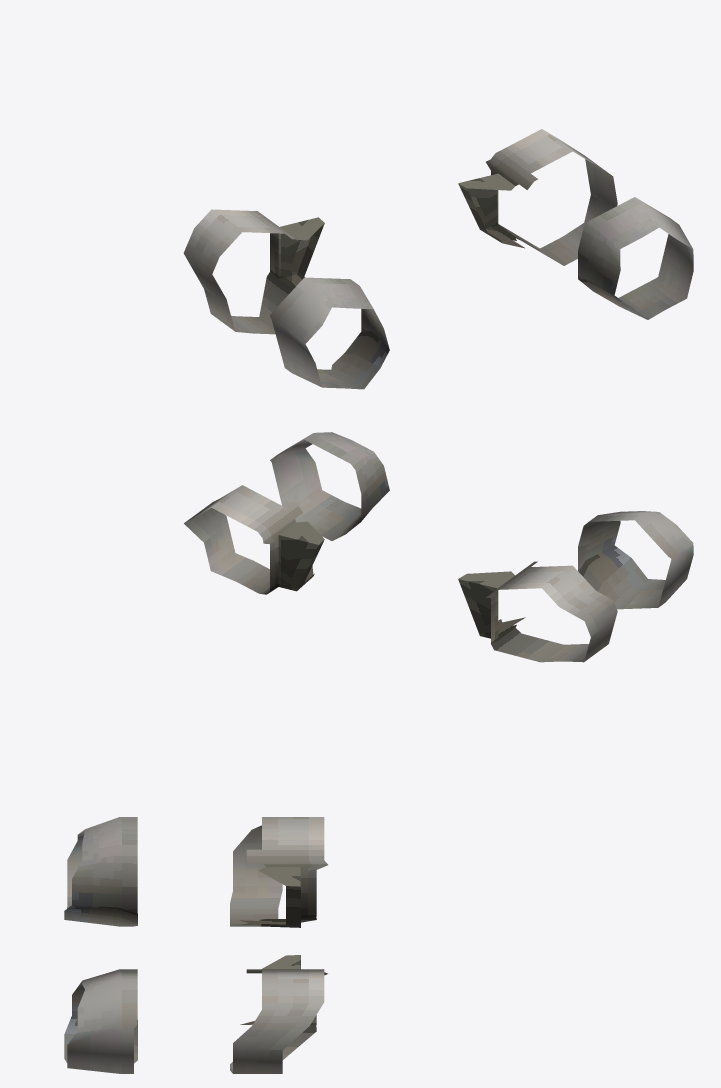
Rendered from hutt_fighter_medium_booster_s01_l2.fbx.
3 views of the same model, one above another, from view 1: azimuth 30°, elevation 25°; view 2: azimuth 150°, elevation 25°; view 3: azimuth 270°, elevation 25° (orthographic).
Visible parts, largest first — view 1: mesh_node; view 2: mesh_node; view 3: mesh_node.
Boxes of the visible parts, x1=… form: mesh_node: x1=183, y1=129, x2=693, y2=389; mesh_node: x1=184, y1=432, x2=693, y2=662; mesh_node: x1=64, y1=817, x2=327, y2=1073.
Size of the model in its own units: 4.06 by 0.938 by 6.05.
